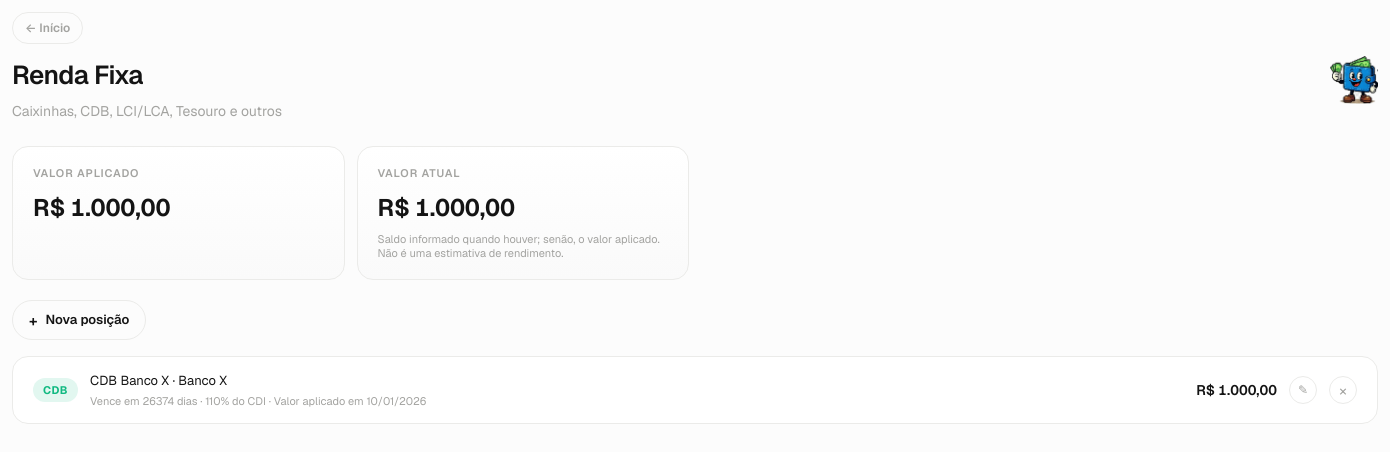
Test: RendaFixaPage › exclui uma posição após confirmação
Expected: the text "CDB Banco X · Banco X" is shown, x1=90 y1=372 x2=227 y2=389
Click the button named "Remover posição" at (1343, 390), box x1=1329 y1=376 x2=1357 y2=404
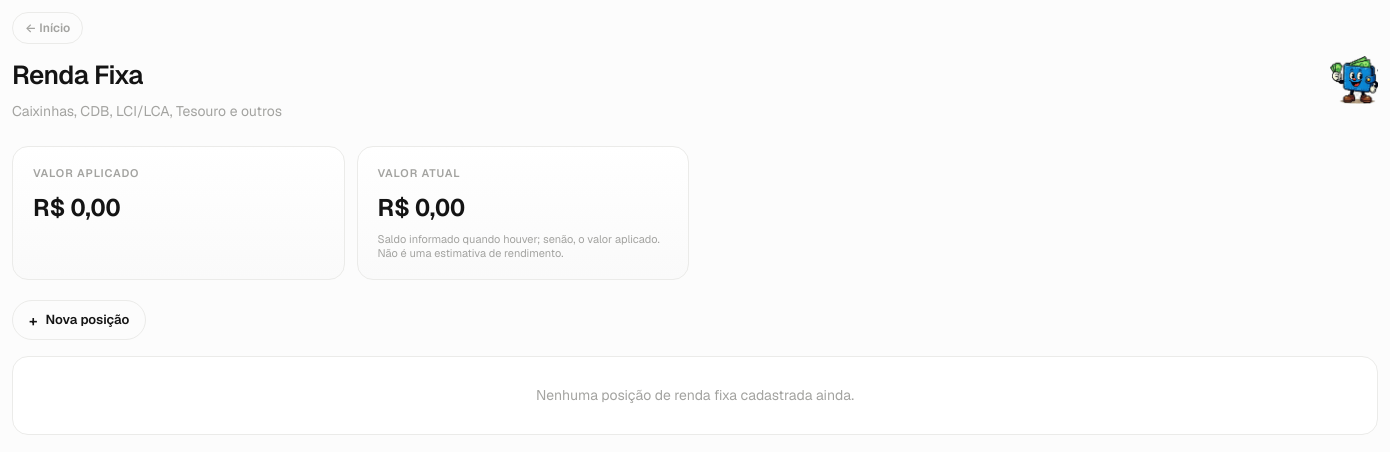
Expected: the text "Nenhuma posição de renda fixa cadastrada ainda." is shown, x1=12 y1=356 x2=1378 y2=435
